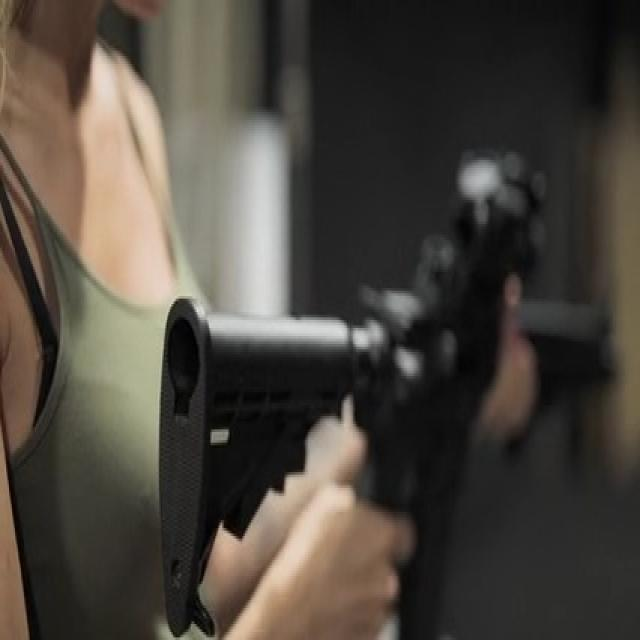Gun_Holder: (145, 140, 632, 640)
